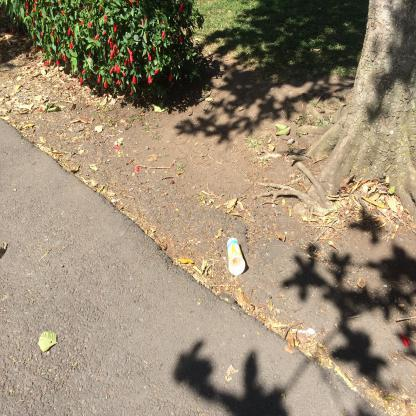karton: (229, 239, 247, 277)
plastik: (293, 329, 317, 336)
